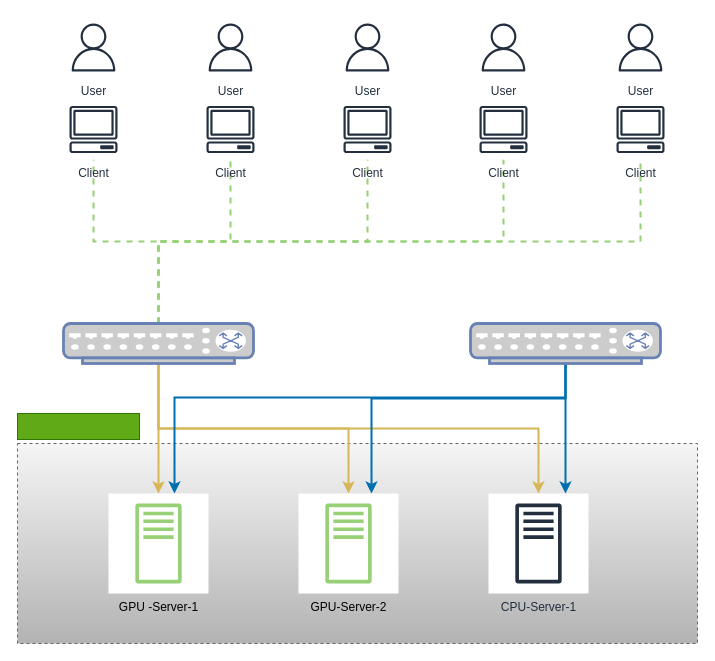
Image size: 715x661. Some labels were removed from this diagram. Here are the shapes that lost their labels. From the top down, the centre of each, then its label:
point (158, 343): 1000M TCP 业务网
point (565, 343): 1000M TCP 集群通信
point (78, 426): AI 算力资源池
